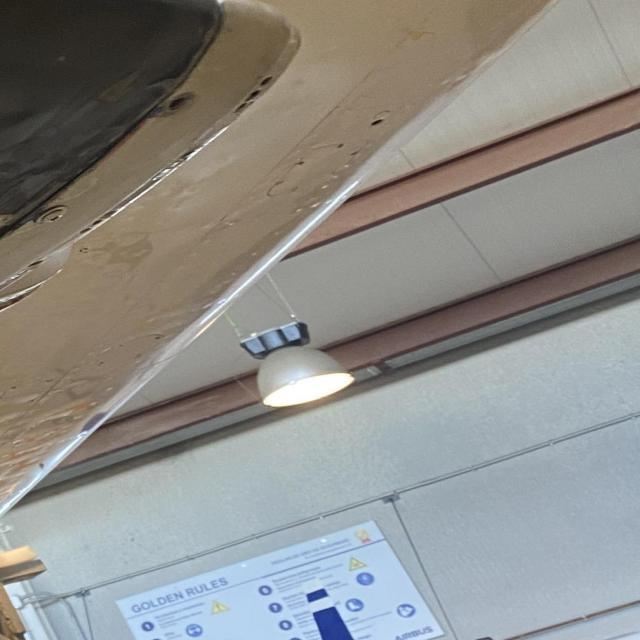Missing-head: (164, 92, 196, 113)
